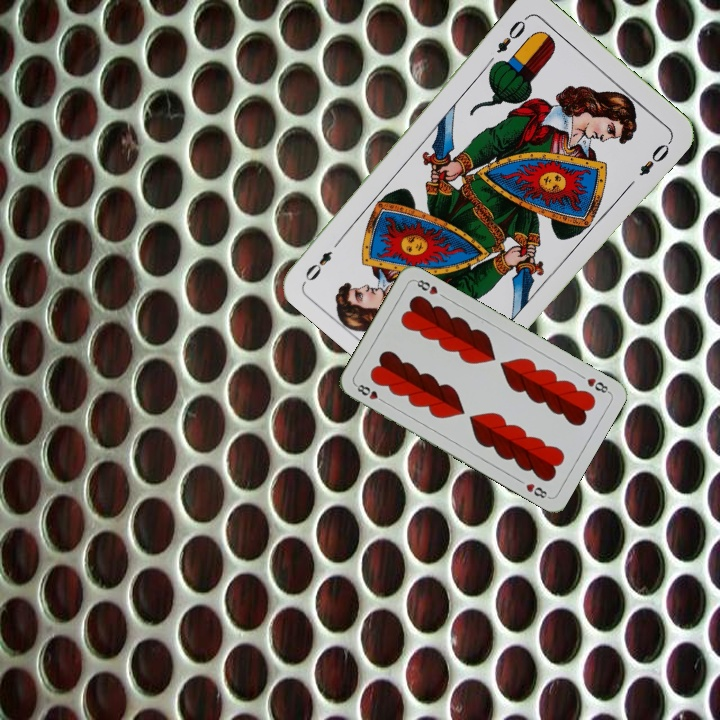EO: (492, 12, 531, 56)
H8: (352, 380, 389, 406), (583, 374, 612, 396)
